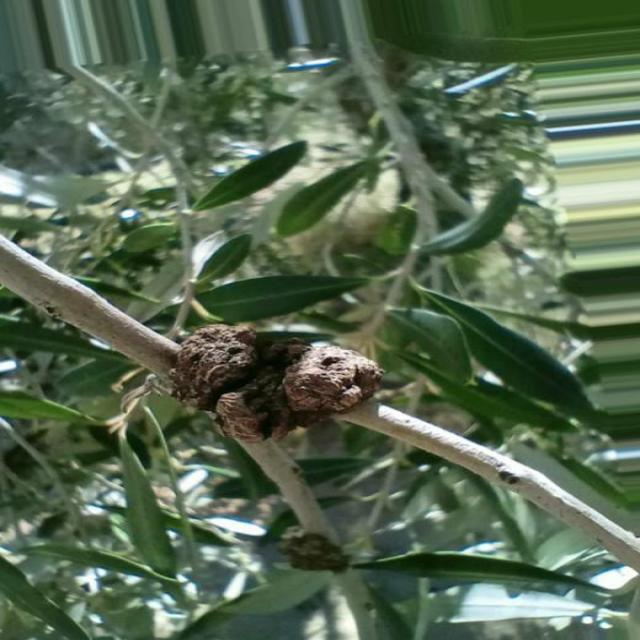Tuberculosis: (172, 324, 383, 441)
